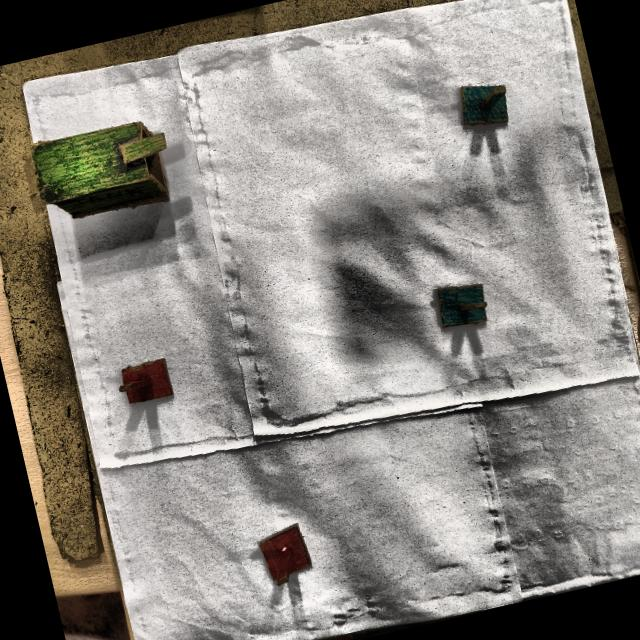Tank: (33, 121, 171, 221)
enemy: (118, 356, 190, 423), (254, 522, 319, 591)
friend: (457, 84, 514, 147), (432, 283, 493, 334)
